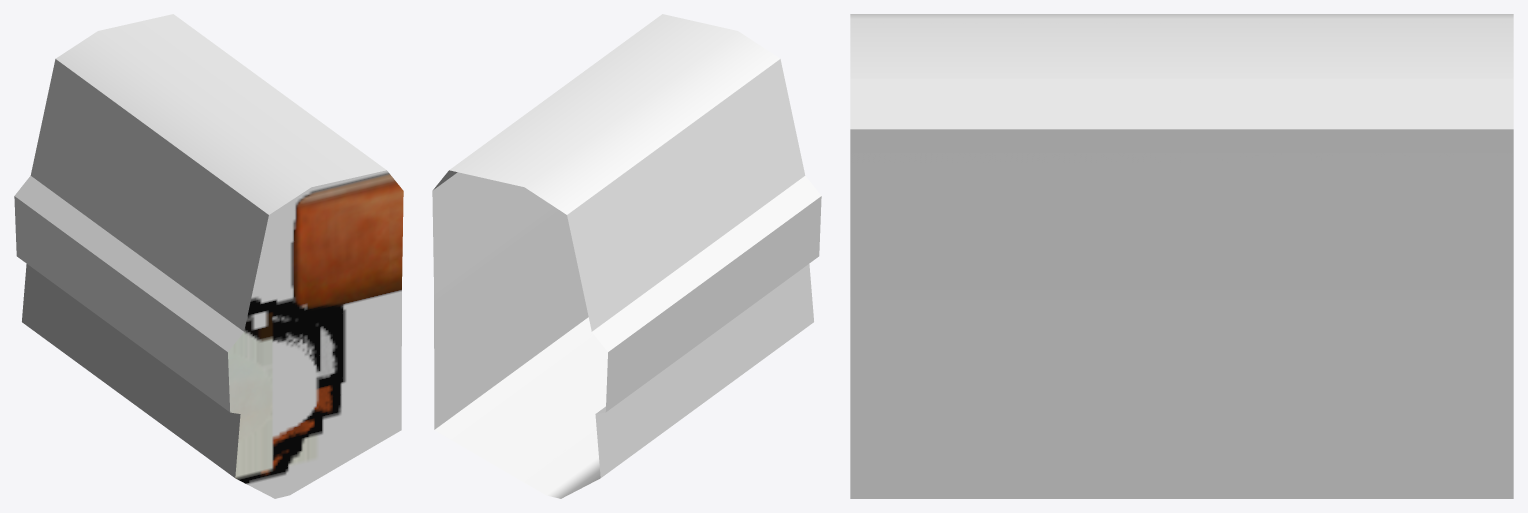
The model's file is Runa_01.fbx.
3 views of the same model, side by side, from view 1: azimuth 30°, elevation 25°; view 2: azimuth 150°, elevation 25°; view 3: azimuth 270°, elevation 25° (orthographic). The views are drawn at different scales.
Parts seen in each view (by area): view 1: Runa_01; view 2: Runa_01; view 3: Runa_01.
Boxes of the visible parts, x1,y1,x2,y2 form: Runa_01: (14, 14, 403, 498); Runa_01: (432, 14, 821, 498); Runa_01: (850, 14, 1513, 498).
Bounding box in the file's own units: 1.49 × 2.45 × 3.13.
